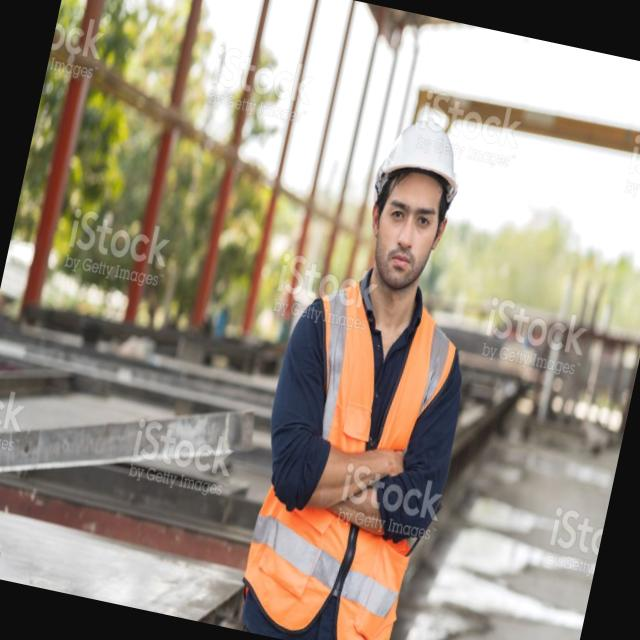helmet: (366, 112, 484, 213)
no-goggles: (372, 182, 454, 245)
vest: (246, 263, 480, 640)
